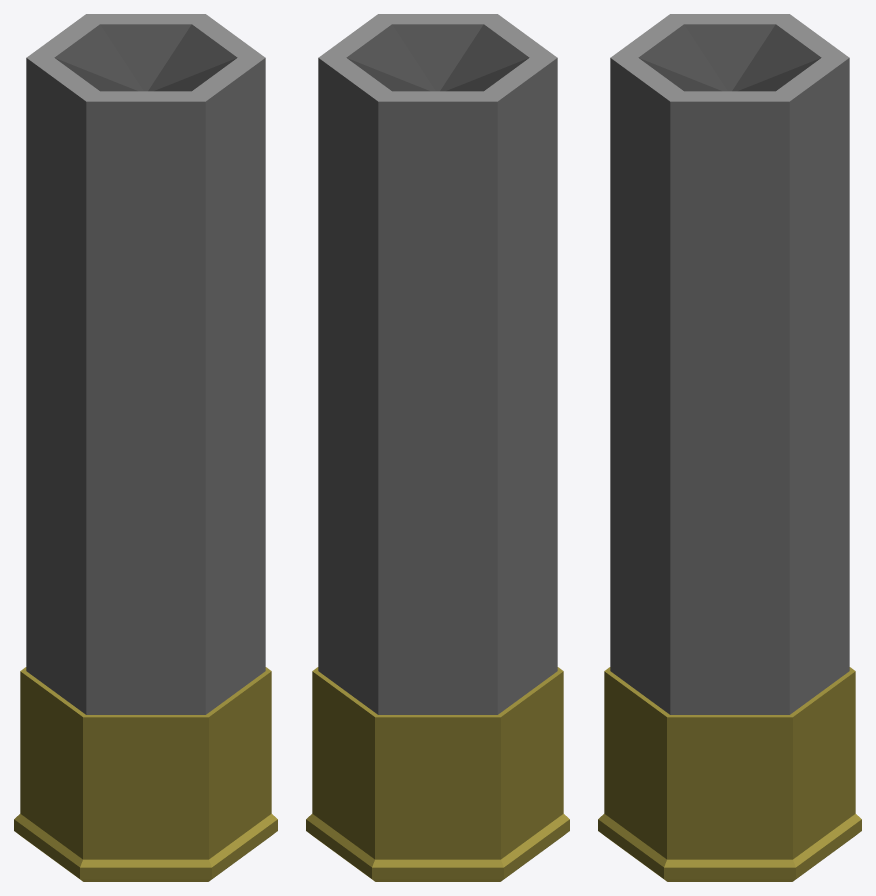
The model's file is MW1_Ammunition_12ga_03.fbx.
3 renders of one model, left to right at view 1: azimuth 30°, elevation 25°; view 2: azimuth 150°, elevation 25°; view 3: azimuth 270°, elevation 25°, orthographic.
Parts seen in each view (by area): view 1: Ammunition_12ga_03; view 2: Ammunition_12ga_03; view 3: Ammunition_12ga_03.
Boxes of the visible parts, x1,y1,x2,y2 form: Ammunition_12ga_03: [14, 14, 277, 881]; Ammunition_12ga_03: [306, 14, 569, 881]; Ammunition_12ga_03: [598, 14, 861, 881].
Size of the model in its own units: 1.7 by 6.4 by 1.96.
